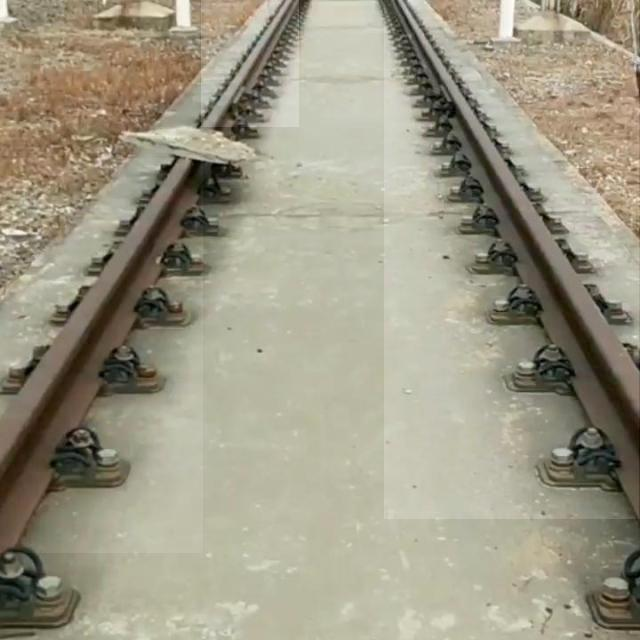rail: (386, 1, 640, 520), (1, 159, 204, 554), (202, 1, 300, 128)
